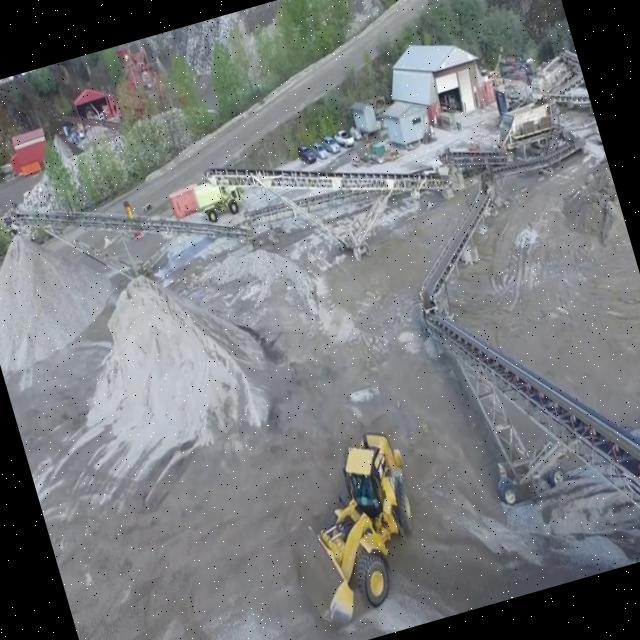Dump Truck: (191, 172, 247, 225)
Loader: (261, 422, 443, 638)
Mobile Crane: (0, 150, 30, 230)
